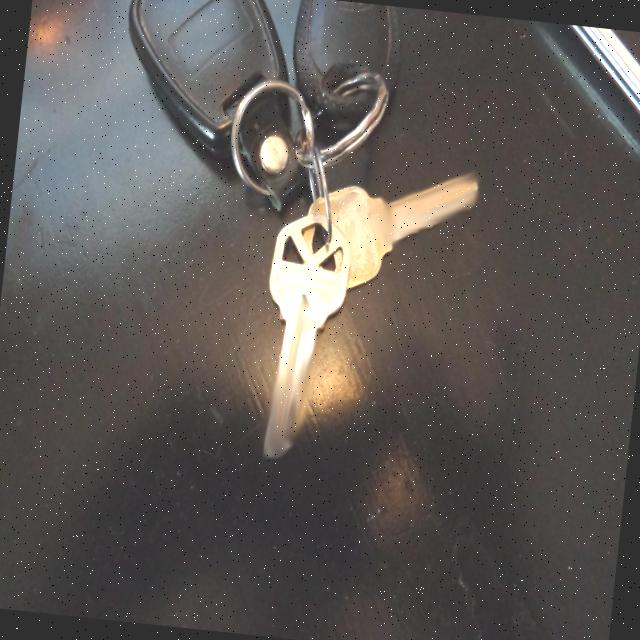Frontdoor keys: (248, 211, 356, 477), (298, 156, 485, 306)
